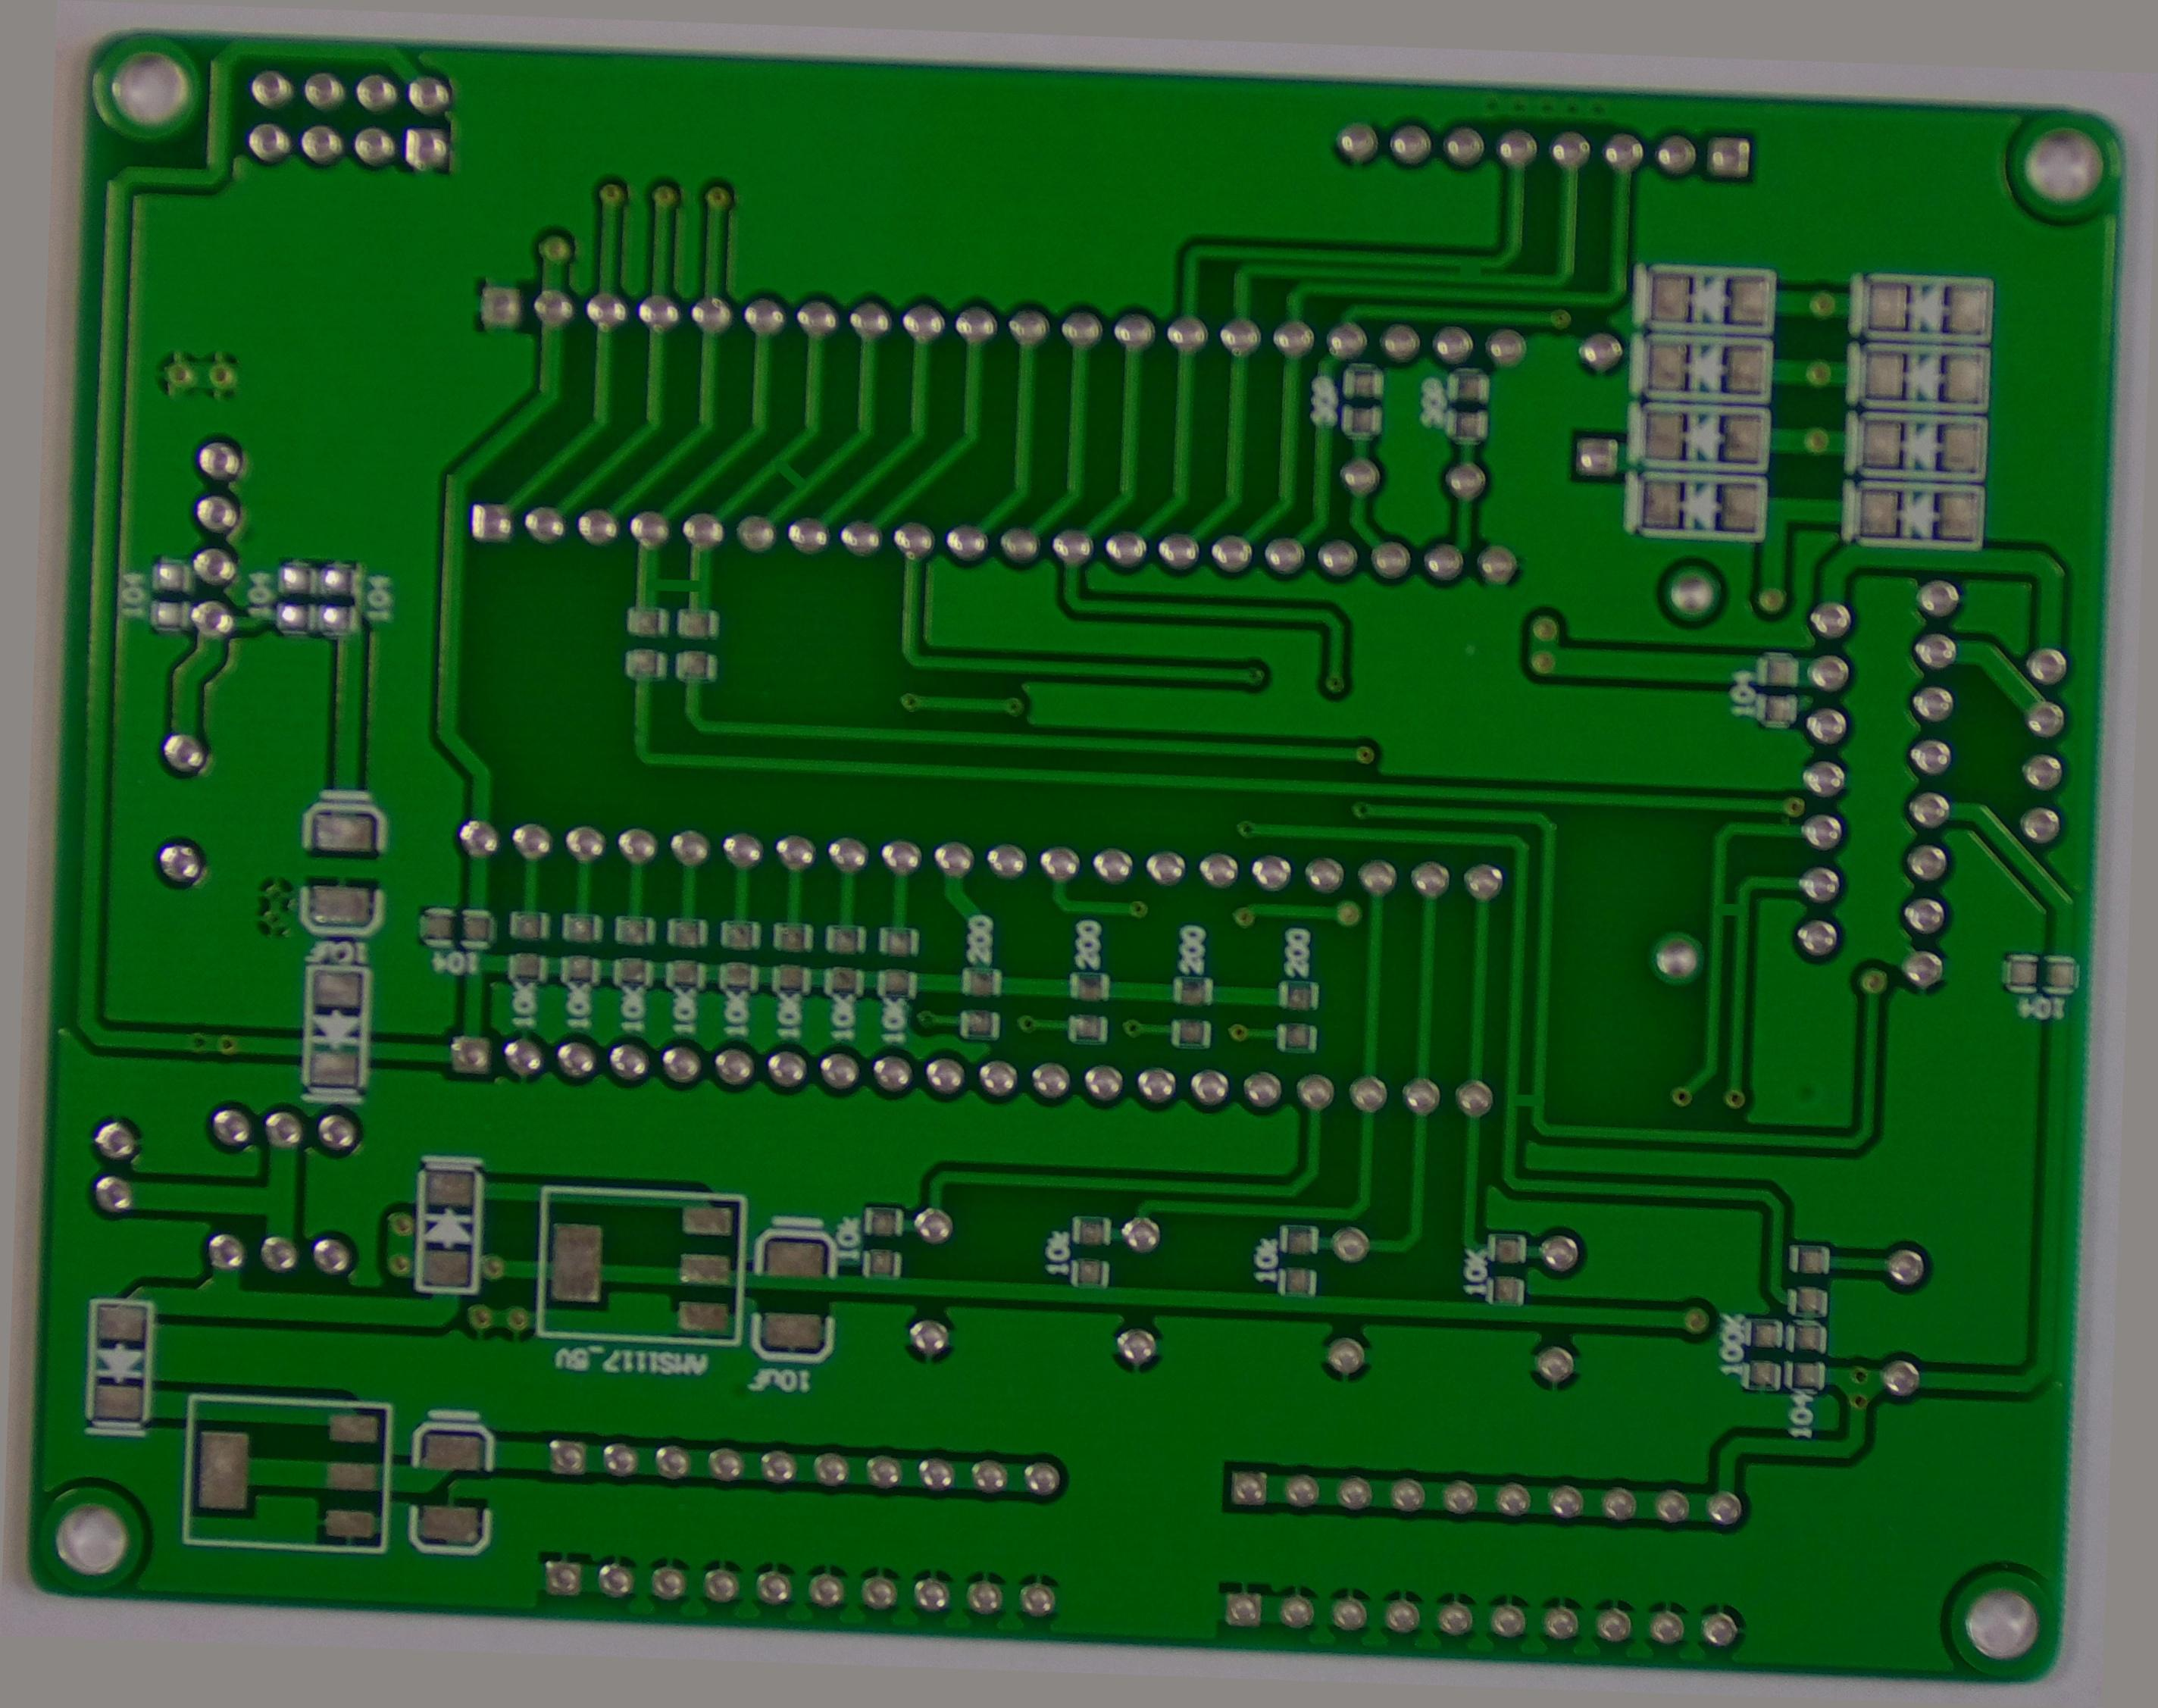short: (620, 562, 720, 604), (757, 452, 820, 499), (1438, 243, 1491, 291), (1699, 885, 1753, 927), (1499, 1081, 1548, 1123)
